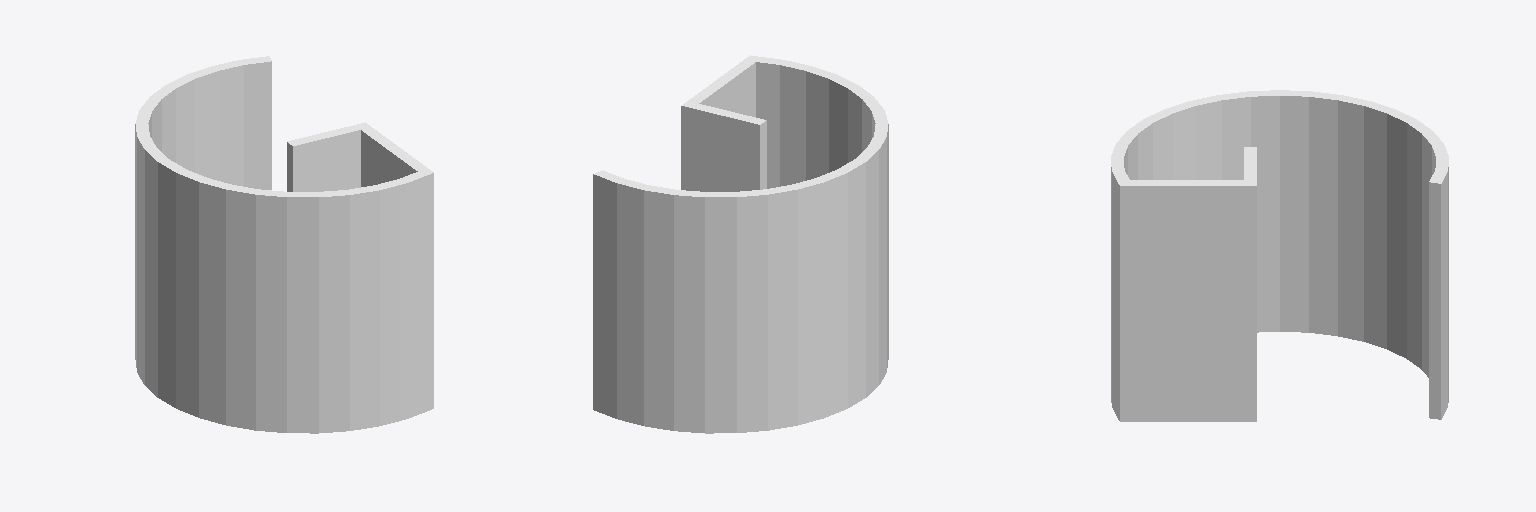
The picture shows the model from 3 angles: view 1: azimuth 30°, elevation 25°; view 2: azimuth 150°, elevation 25°; view 3: azimuth 270°, elevation 25°; orthographic projection.
Visible parts, largest first — view 1: wall_1_4, wall_1_3, wall_3_15, wall_2_9, wall_1_6, wall_1_5; view 2: wall_1_4, wall_1_3, wall_3_16, wall_1_6, wall_1_5, wall_2_9; view 3: wall_1_3, wall_2_10, wall_1_4, wall_1_6, wall_1_5.
Part boxes in pixels (bbox=[...]): wall_1_4: bbox=[135, 124, 433, 433]; wall_1_3: bbox=[148, 61, 271, 189]; wall_3_15: bbox=[290, 130, 360, 191]; wall_2_9: bbox=[361, 130, 417, 186]; wall_1_6: bbox=[135, 56, 431, 196]; wall_1_5: bbox=[142, 59, 424, 194]; wall_1_4: bbox=[593, 124, 888, 433]; wall_1_3: bbox=[756, 62, 875, 188]; wall_3_16: bbox=[681, 106, 762, 191]; wall_1_6: bbox=[594, 55, 888, 196]; wall_1_5: bbox=[599, 59, 881, 194]; wall_2_9: bbox=[699, 62, 755, 116]; wall_1_3: bbox=[1124, 96, 1435, 418]; wall_2_10: bbox=[1120, 186, 1256, 421]; wall_1_4: bbox=[1111, 167, 1448, 420]; wall_1_6: bbox=[1111, 90, 1448, 184]; wall_1_5: bbox=[1117, 93, 1442, 182].
Bounding box in the file's own units: 133 × 152 × 198.